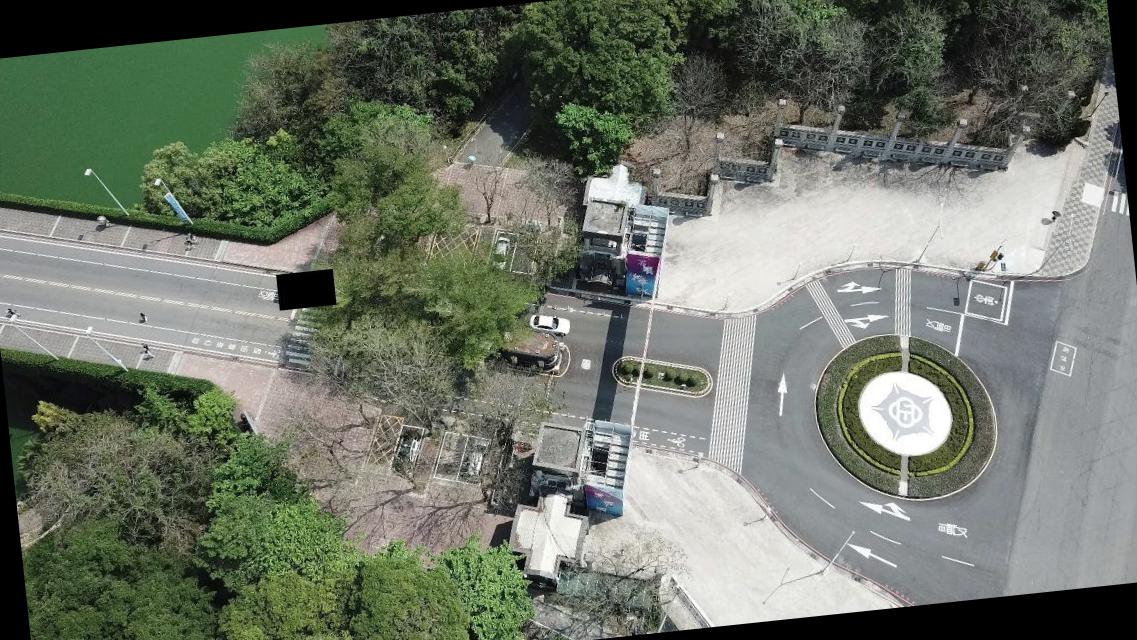vehicle: (388, 426, 424, 473), (460, 435, 494, 483), (528, 310, 570, 338), (490, 234, 514, 270)
